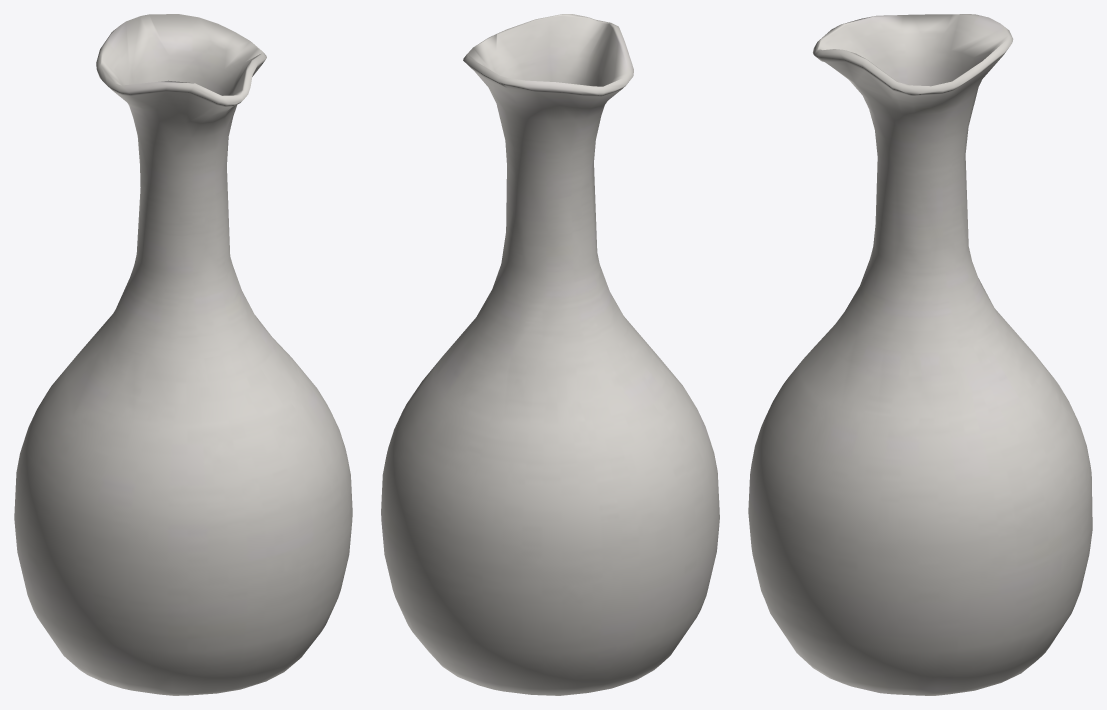
File: ceramic_vase_01.glb
The picture shows the model from 3 angles, left to right: view 1: azimuth 30°, elevation 25°; view 2: azimuth 150°, elevation 25°; view 3: azimuth 270°, elevation 25°; orthographic projection.
Visible parts, largest first — view 1: ceramic_vase_01; view 2: ceramic_vase_01; view 3: ceramic_vase_01.
Boxes of the visible parts, box(x1,y1,x2,y2) form: ceramic_vase_01: box(14, 14, 352, 695); ceramic_vase_01: box(381, 14, 719, 695); ceramic_vase_01: box(748, 14, 1092, 695).
Bounding box in the file's own units: 0.2036 × 0.4003 × 0.2031.
1 material, 1 textured.
